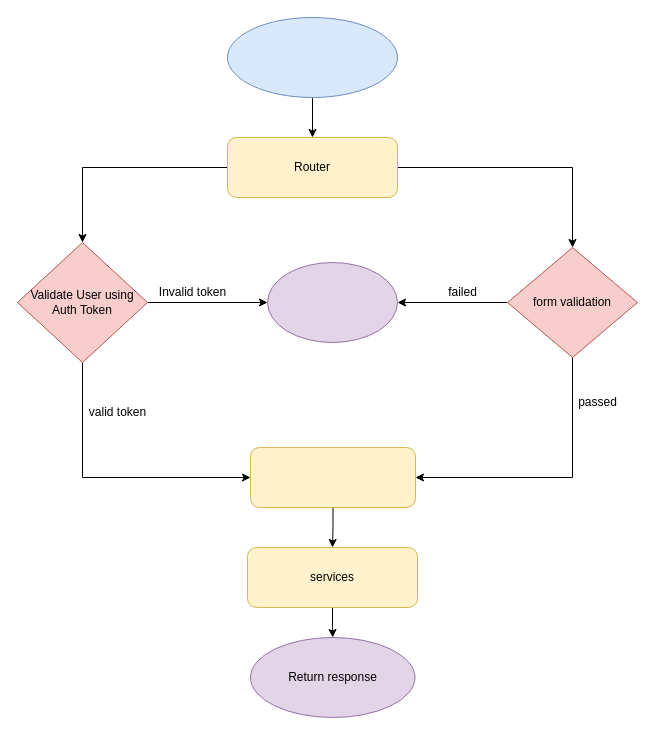
The diagram is 655 pixels wide and 735 high, and some of its shapes have lost their labels. The centre of each missing label's shape, as x and y in pixels:
"API call from frontend" goes at (x=312, y=57).
"controller" goes at (x=333, y=477).
"Return error" goes at (x=332, y=302).
